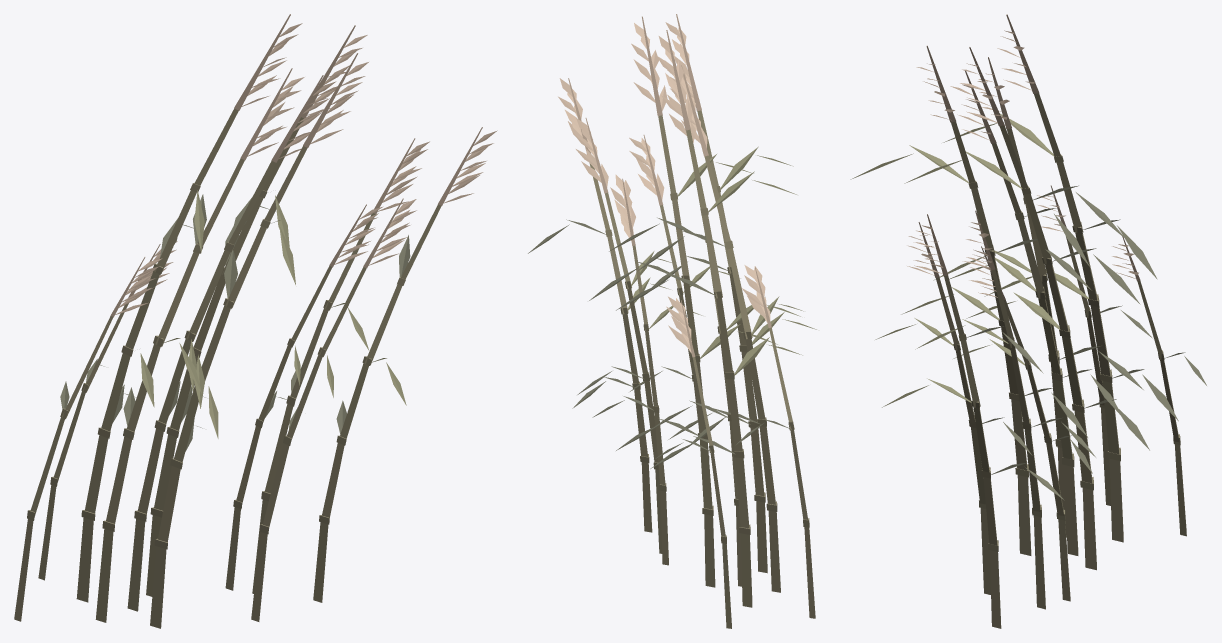
The model's file is shui.luweidang__winter.glb.
The picture shows the model from 3 angles, left to right: view 1: azimuth 30°, elevation 25°; view 2: azimuth 150°, elevation 25°; view 3: azimuth 270°, elevation 25°; orthographic projection. The views are drawn at different scales.
Parts seen in each view (by area): view 1: shui.luweidang__winter; view 2: shui.luweidang__winter; view 3: shui.luweidang__winter.
Boxes of the visible parts, <box> form: shui.luweidang__winter: <box>14,14,497,628</box>; shui.luweidang__winter: <box>528,14,816,628</box>; shui.luweidang__winter: <box>850,14,1206,628</box>.
Size of the model in its own units: 3.04 by 4.39 by 2.37.
